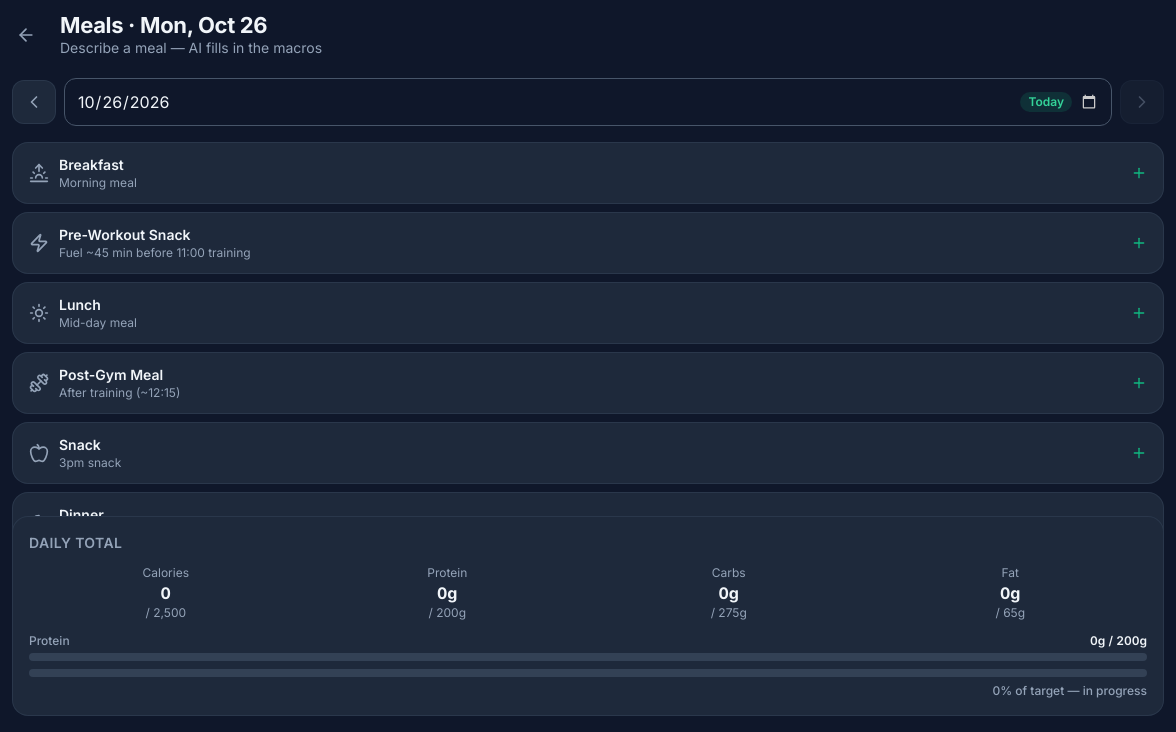
Test: meals date pager › steps back a day with the previous arrow and drops the badge
The image size is (1176, 732).
Step 1. Click the button named "Previous day" → (34, 102), box [12, 80, 56, 124]
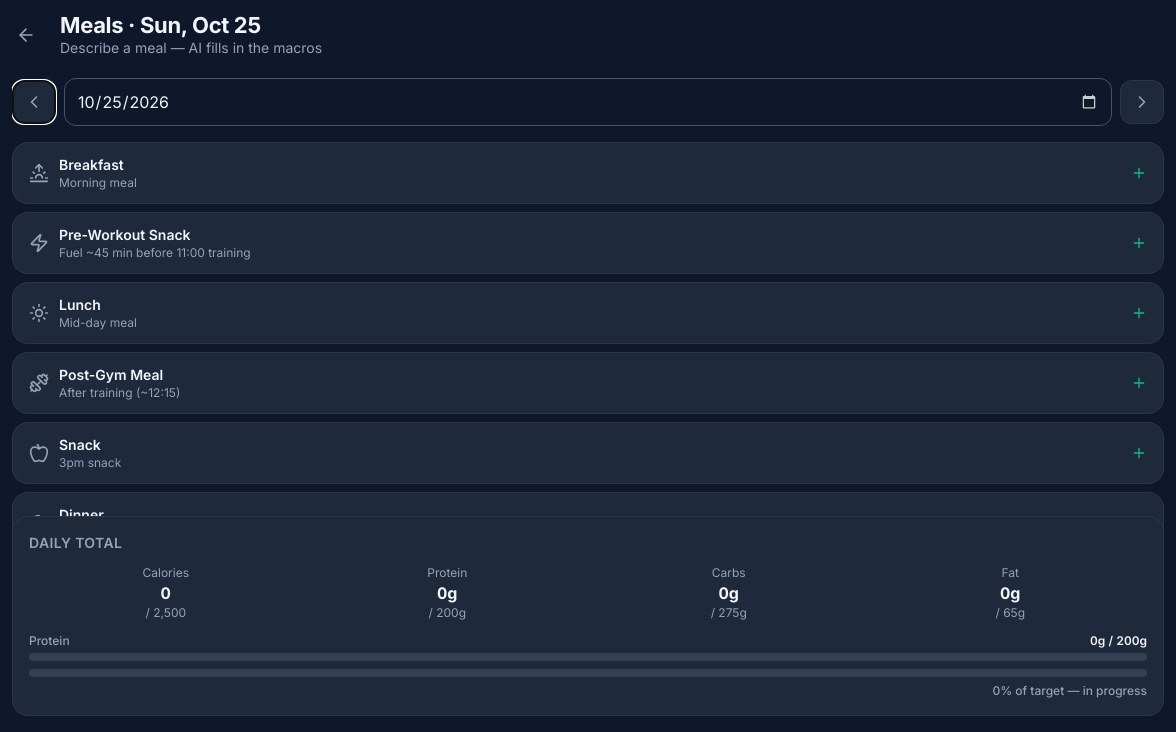
Expected: the text "Today" is gone
